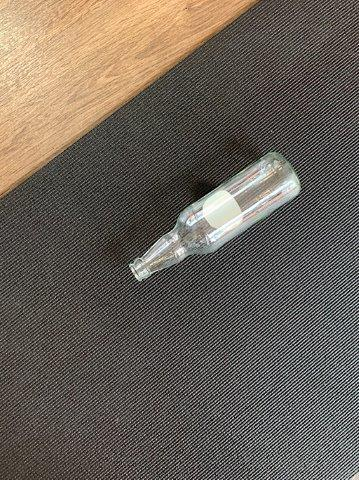botolkaca: (128, 151, 302, 282)
